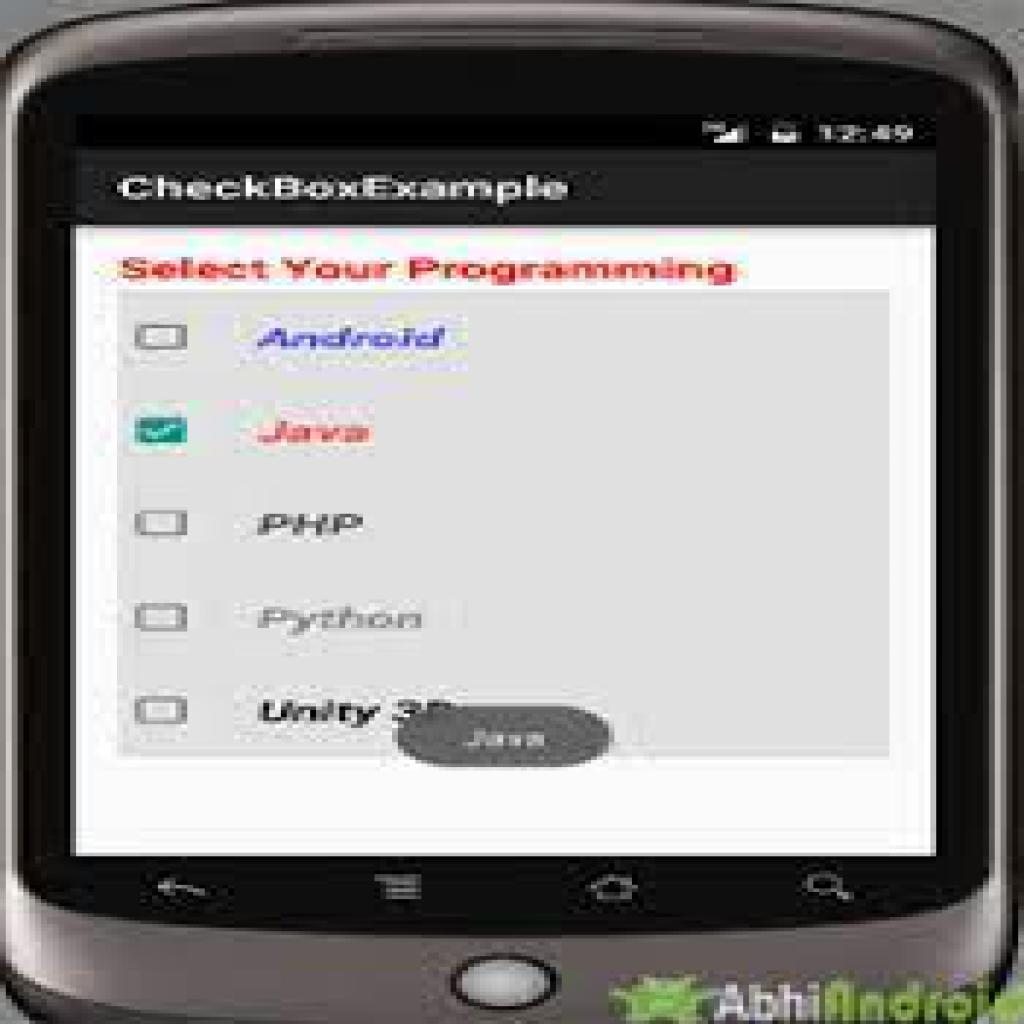checkbox: (135, 414, 191, 445), (136, 510, 189, 538), (136, 605, 189, 633), (141, 699, 186, 727), (138, 326, 190, 349)
